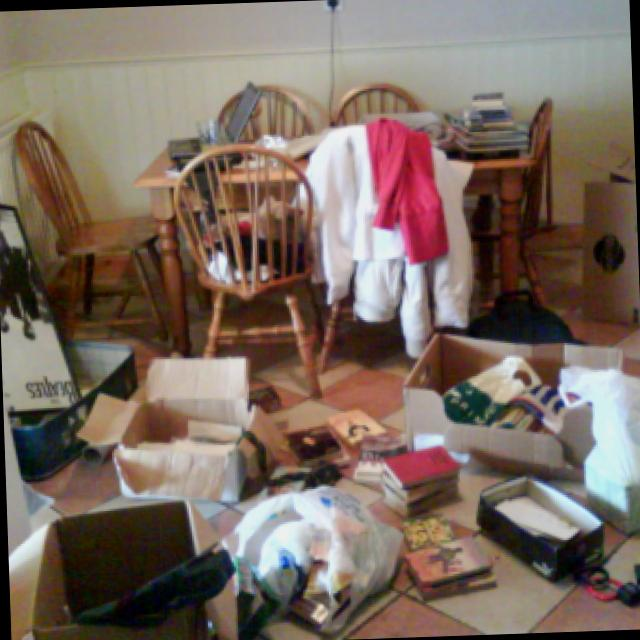mess: (0, 290, 640, 640), (175, 73, 549, 237)
